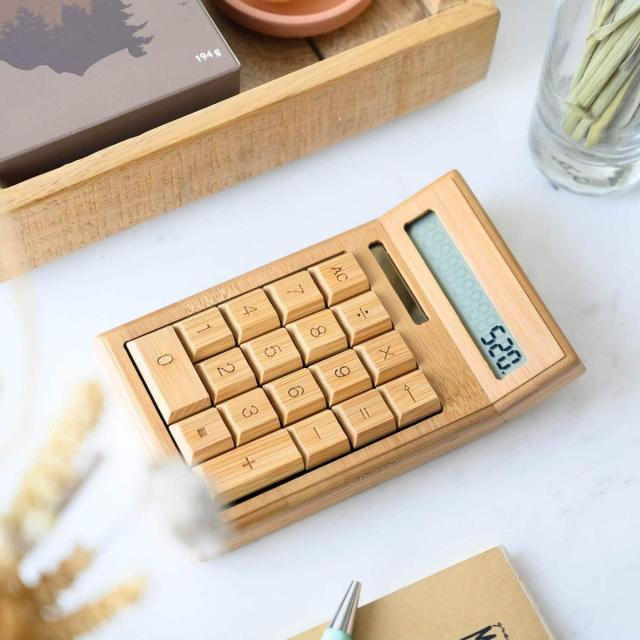Calculator: (102, 156, 590, 553)
